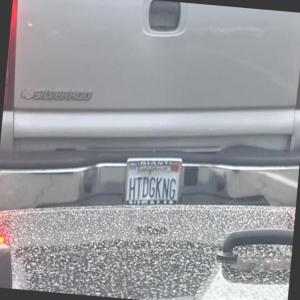Plate: (122, 156, 182, 205)
